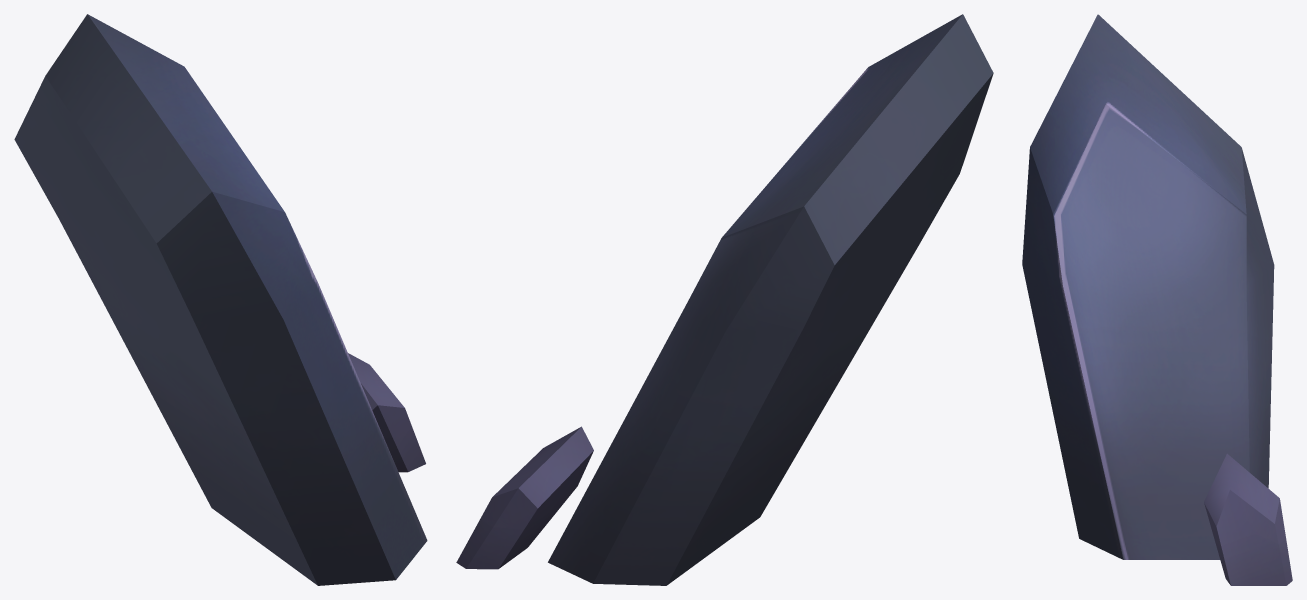
File: rockruin3.fbx
3 renders of one model, left to right at view 1: azimuth 30°, elevation 25°; view 2: azimuth 150°, elevation 25°; view 3: azimuth 270°, elevation 25°, orthographic. The views are drawn at different scales.
Visible parts, largest first — view 1: pCube3; view 2: pCube3; view 3: pCube3.
Part boxes in pixels (x1,y1,x2,y2): pCube3: (14,14,427,585); pCube3: (456,14,993,585); pCube3: (1022,14,1292,585).
Bounding box in the file's own units: 24.56 × 31.03 × 17.82.
